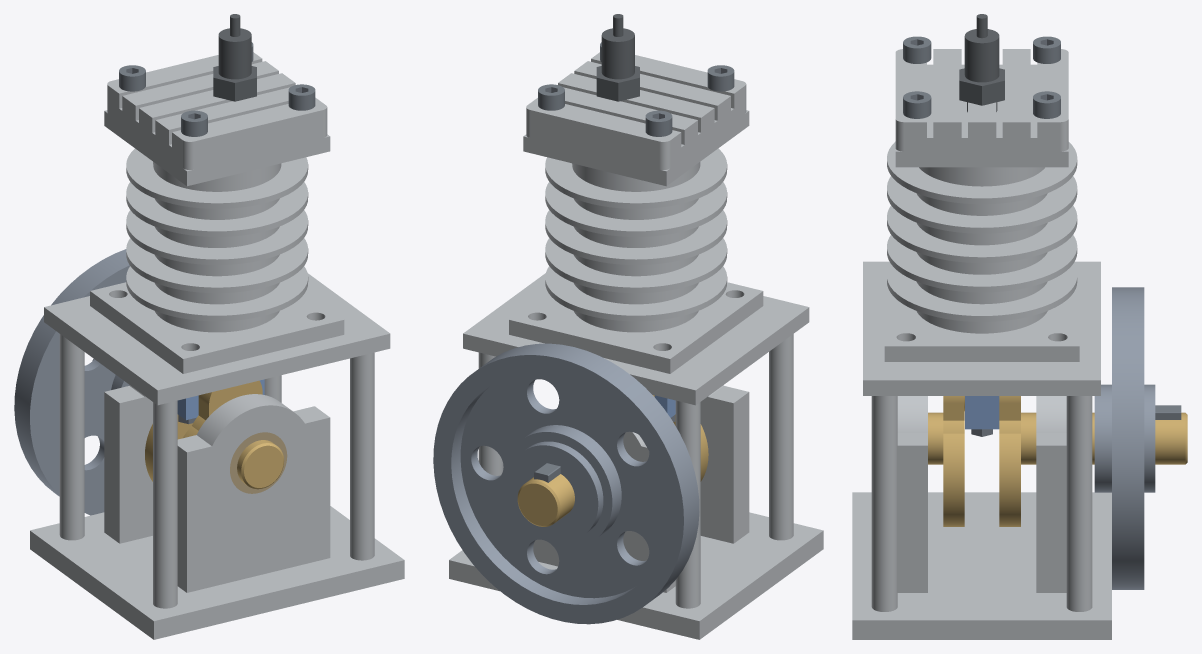
File: step_35.glb
The picture shows the model from 3 angles, left to right: view 1: azimuth 30°, elevation 25°; view 2: azimuth 150°, elevation 25°; view 3: azimuth 270°, elevation 25°; orthographic projection. The views are drawn at different scales.
Visible parts, largest first — view 1: part__crankcase frame, part__cylinder barrel, part__cylinder head, part__flywheel, part__crankshaft, part__spark plug M14, part__main bush 2, part__head screw 3, part__head screw 2, part__head screw 4; view 2: part__flywheel, part__cylinder barrel, part__crankcase frame, part__cylinder head, part__spark plug M14, part__crankshaft, part__head screw 2, part__head screw 4, part__head screw 1; view 3: part__crankcase frame, part__cylinder barrel, part__cylinder head, part__flywheel, part__crankshaft, part__spark plug M14, part__head screw 3, part__head screw 4, part__big end cap, part__head screw 1, part__head screw 2, part__connecting rod.
Part boxes in pixels (bbox=[...]): part__crankcase frame: bbox=[30, 273, 404, 639]; part__cylinder barrel: bbox=[90, 110, 344, 373]; part__cylinder head: bbox=[107, 52, 327, 169]; part__flywheel: bbox=[14, 249, 129, 515]; part__crankshaft: bbox=[145, 380, 284, 489]; part__spark plug M14: bbox=[213, 14, 256, 101]; part__main bush 2: bbox=[230, 432, 287, 493]; part__head screw 3: bbox=[288, 84, 315, 110]; part__head screw 2: bbox=[119, 65, 145, 91]; part__head screw 4: bbox=[181, 110, 207, 136]; part__flywheel: bbox=[433, 343, 699, 624]; part__cylinder barrel: bbox=[509, 110, 763, 373]; part__crankcase frame: bbox=[449, 273, 823, 639]; part__cylinder head: bbox=[526, 52, 746, 169]; part__spark plug M14: bbox=[596, 14, 639, 101]; part__crankshaft: bbox=[517, 395, 708, 526]; part__head screw 2: bbox=[645, 110, 672, 136]; part__head screw 4: bbox=[707, 65, 734, 91]; part__head screw 1: bbox=[538, 84, 564, 110]; part__crankcase frame: bbox=[852, 261, 1111, 639]; part__cylinder barrel: bbox=[884, 141, 1079, 361]; part__cylinder head: bbox=[895, 49, 1068, 151]; part__flywheel: bbox=[1094, 287, 1155, 589]; part__crankshaft: bbox=[928, 396, 1187, 526]; part__spark plug M14: bbox=[959, 14, 1004, 112]; part__head screw 3: bbox=[903, 91, 931, 118]; part__head screw 4: bbox=[903, 36, 931, 63]; part__big end cap: bbox=[965, 409, 999, 429]; part__head screw 1: bbox=[1033, 91, 1060, 118]; part__head screw 2: bbox=[1033, 36, 1060, 63]; part__connecting rod: bbox=[965, 396, 999, 409].
Size of the model in its own units: 140 by 290 by 155.
